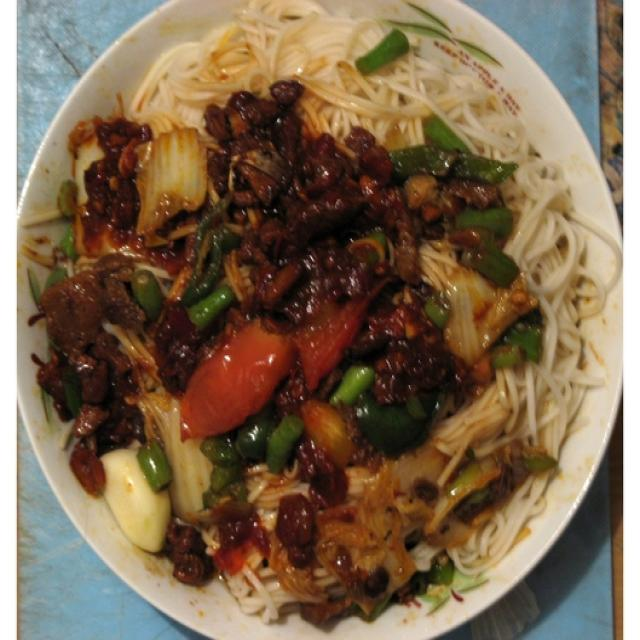面条主食: (28, 18, 607, 629)
